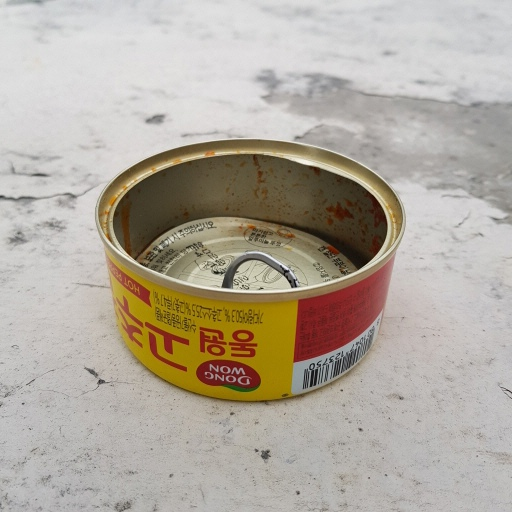Metal_1: (94, 135, 410, 405)
